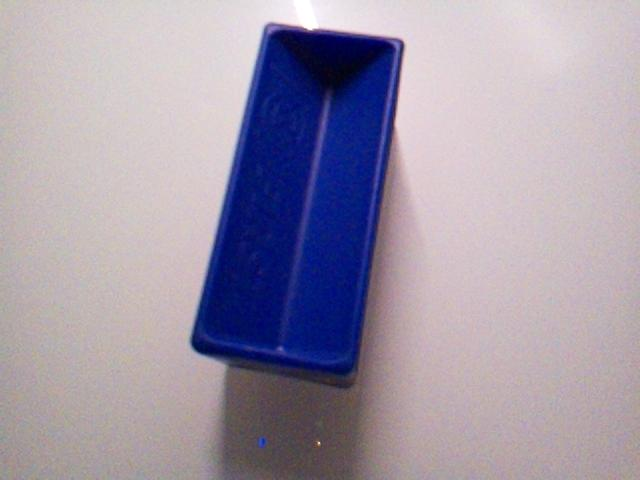blue: (190, 21, 406, 388)
